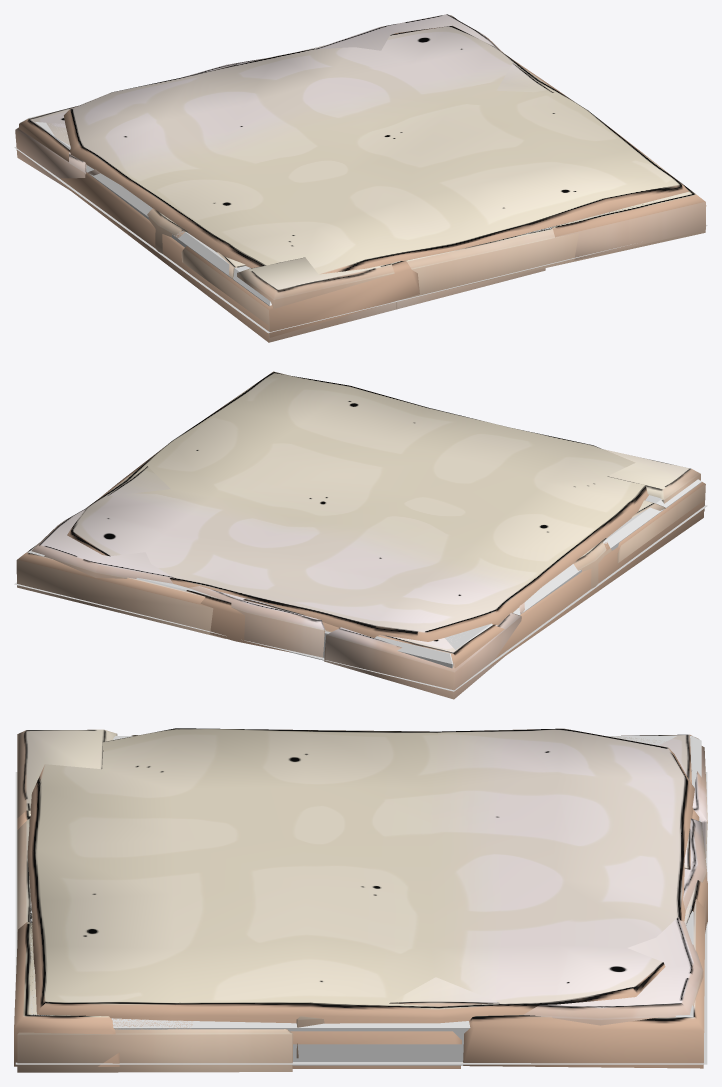
Rendered from Stone_Tile_1V2.fbx.
3 renders of one model, top to bottom at view 1: azimuth 30°, elevation 25°; view 2: azimuth 150°, elevation 25°; view 3: azimuth 270°, elevation 25°, orthographic. The views are drawn at different scales.
Parts seen in each view (by area): view 1: Stone_Tile_4, Stone_Tile_1, Stone_Tile_2, Stone_Tile_3, Stone_Tile.COPY, Stone_Tile; view 2: Stone_Tile_4, Stone_Tile_1, Stone_Tile_2, Stone_Tile.COPY, Stone_Tile_3, Stone_Tile; view 3: Stone_Tile_4, Stone_Tile_1, Stone_Tile_2, Stone_Tile.COPY, Stone_Tile, Stone_Tile_3.
Part boxes in pixels (box(x1,y1,x2,y2)): Stone_Tile_4: box(64, 25, 688, 274); Stone_Tile_1: box(15, 14, 706, 308); Stone_Tile_2: box(19, 15, 705, 342); Stone_Tile_3: box(46, 122, 642, 337); Stone_Tile.COPY: box(20, 15, 670, 305); Stone_Tile: box(14, 147, 707, 333); Stone_Tile_4: box(67, 372, 648, 641); Stone_Tile_1: box(31, 449, 700, 699); Stone_Tile_2: box(16, 371, 704, 668); Stone_Tile.COPY: box(28, 479, 701, 668); Stone_Tile_3: box(186, 482, 705, 652); Stone_Tile: box(14, 505, 707, 691); Stone_Tile_4: box(27, 728, 694, 1023); Stone_Tile_1: box(17, 729, 707, 1072); Stone_Tile_2: box(14, 734, 705, 1068); Stone_Tile.COPY: box(29, 736, 701, 1065); Stone_Tile: box(15, 772, 707, 1064); Stone_Tile_3: box(17, 736, 707, 1029).
Size of the model in its own units: 200 by 24.9 by 201.
1 material, 1 textured.
